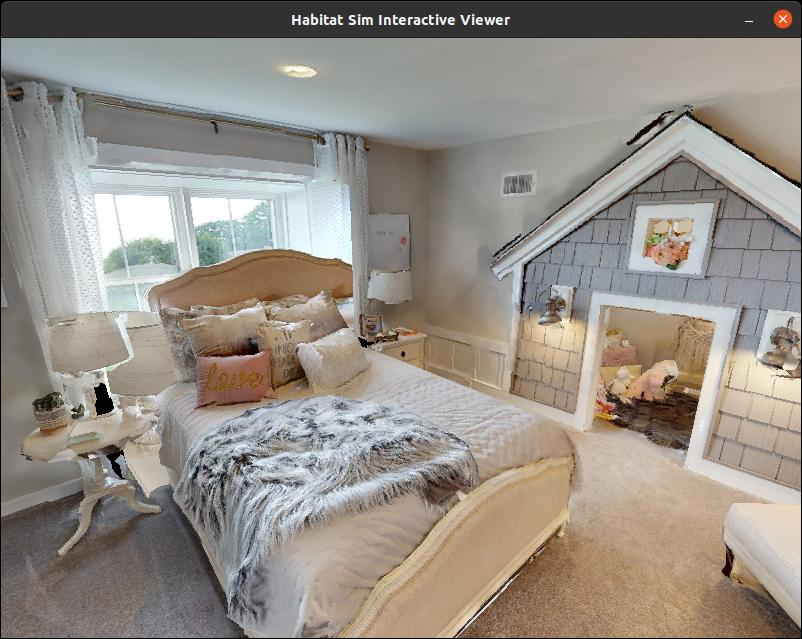bed: (155, 211, 573, 639)
door-frame: (581, 265, 730, 480)
